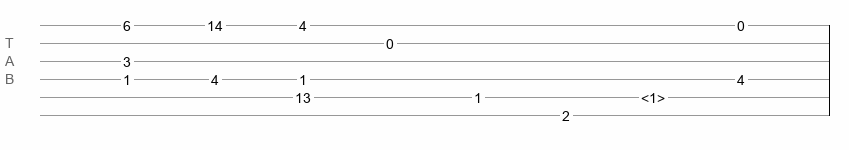0: (386, 36, 394, 46), (737, 18, 745, 28)
1: (123, 72, 131, 82), (299, 72, 307, 82), (474, 90, 482, 100)
13: (295, 90, 311, 100)
14: (207, 18, 223, 28)
2: (562, 108, 570, 118)
3: (123, 54, 131, 64)
4: (211, 72, 219, 82), (299, 18, 307, 28), (737, 72, 745, 82)
6: (123, 18, 131, 28)
harmonic: (641, 90, 665, 100)
